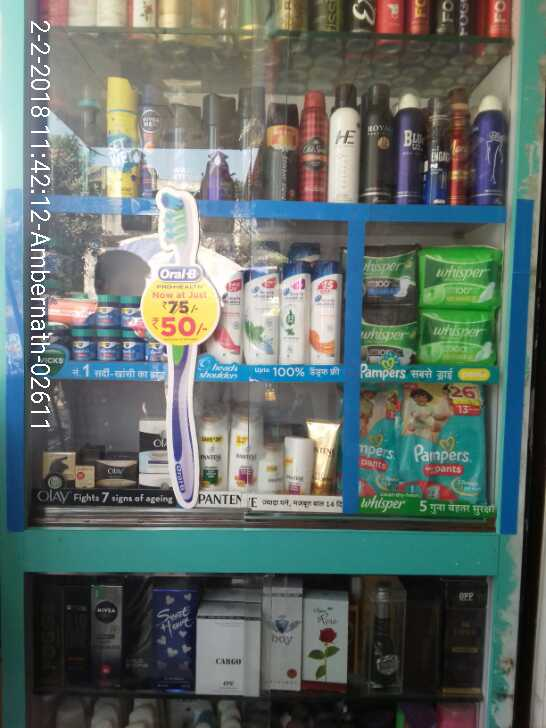vicks: (60, 293, 150, 362)
